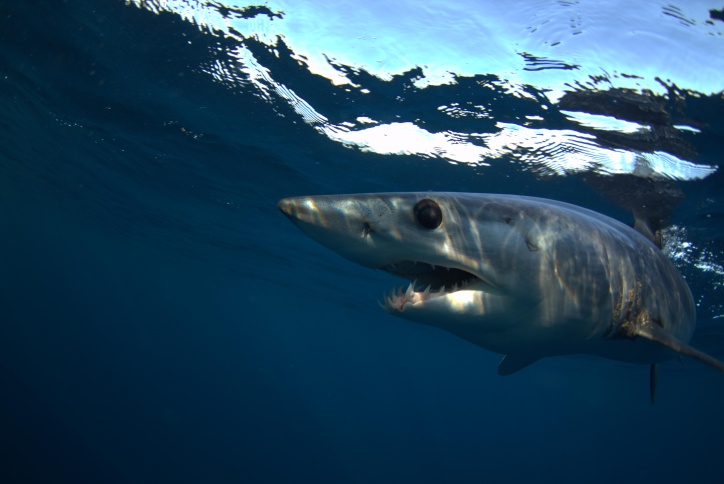Mako: (260, 162, 724, 415)
